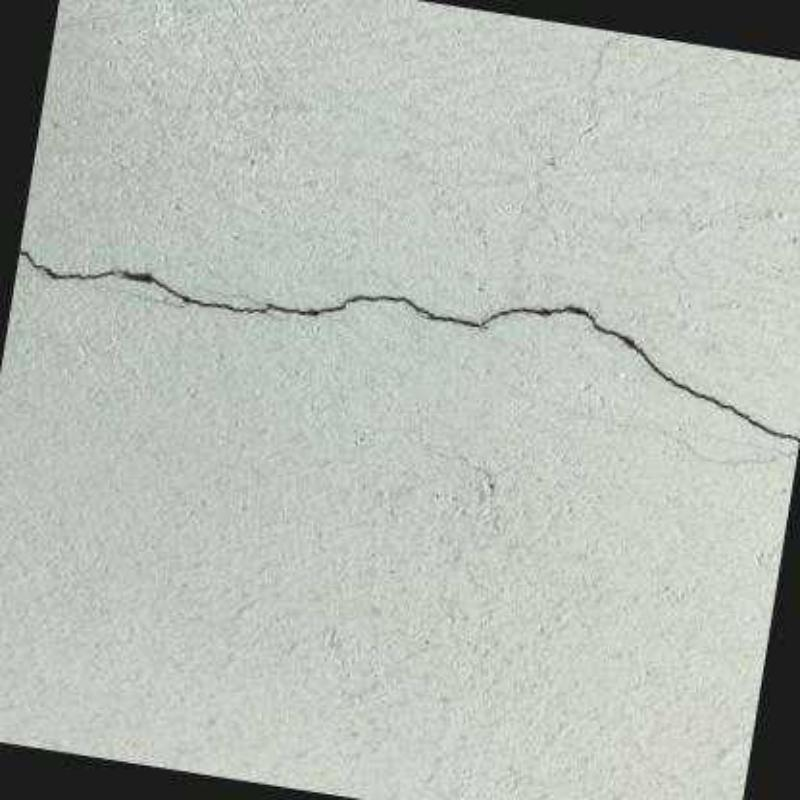pothole: (20, 250, 800, 444)
